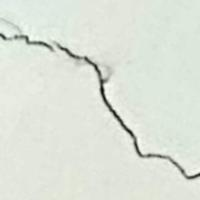crack: (2, 23, 199, 185)
